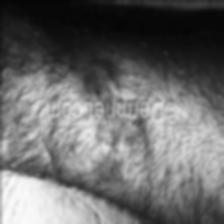Toxin: (61, 120, 156, 175), (67, 69, 122, 93)
